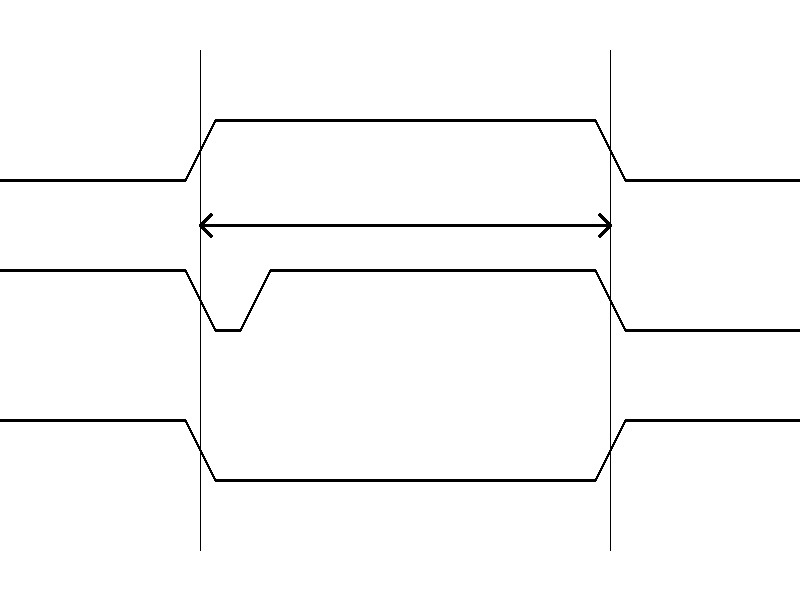double_arrow: (200, 210, 610, 240)
